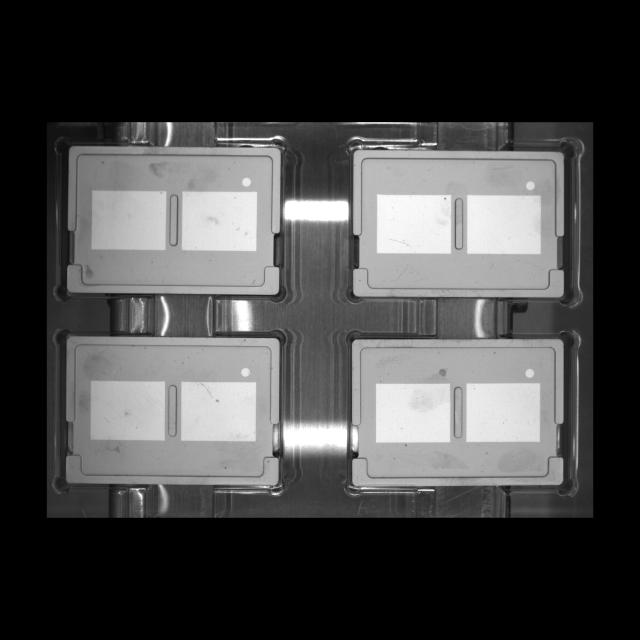product: (341, 326, 580, 501), (345, 133, 583, 308), (56, 134, 292, 306), (53, 326, 291, 496)
